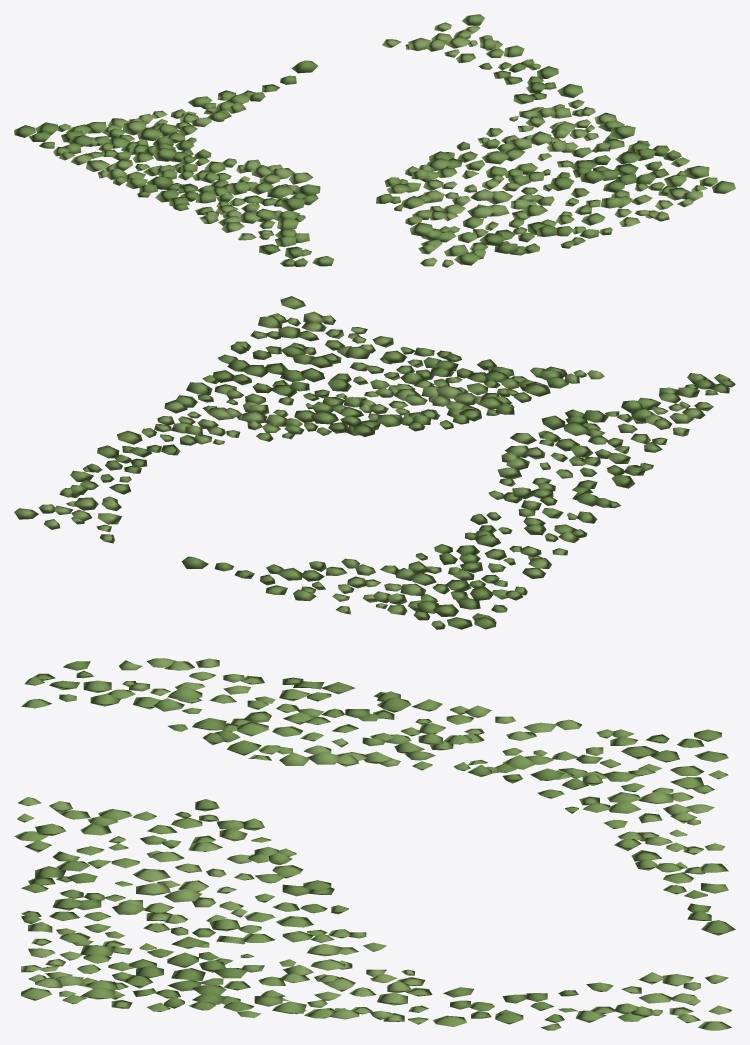
Rendered from canopy-1-4--1.glb.
3 renders of one model, top to bottom at view 1: azimuth 30°, elevation 25°; view 2: azimuth 150°, elevation 25°; view 3: azimuth 270°, elevation 25°, orthographic. The views are drawn at different scales.
Bounding box in the file's own units: 515 × 82.5 × 518.
1 material, 1 textured.
